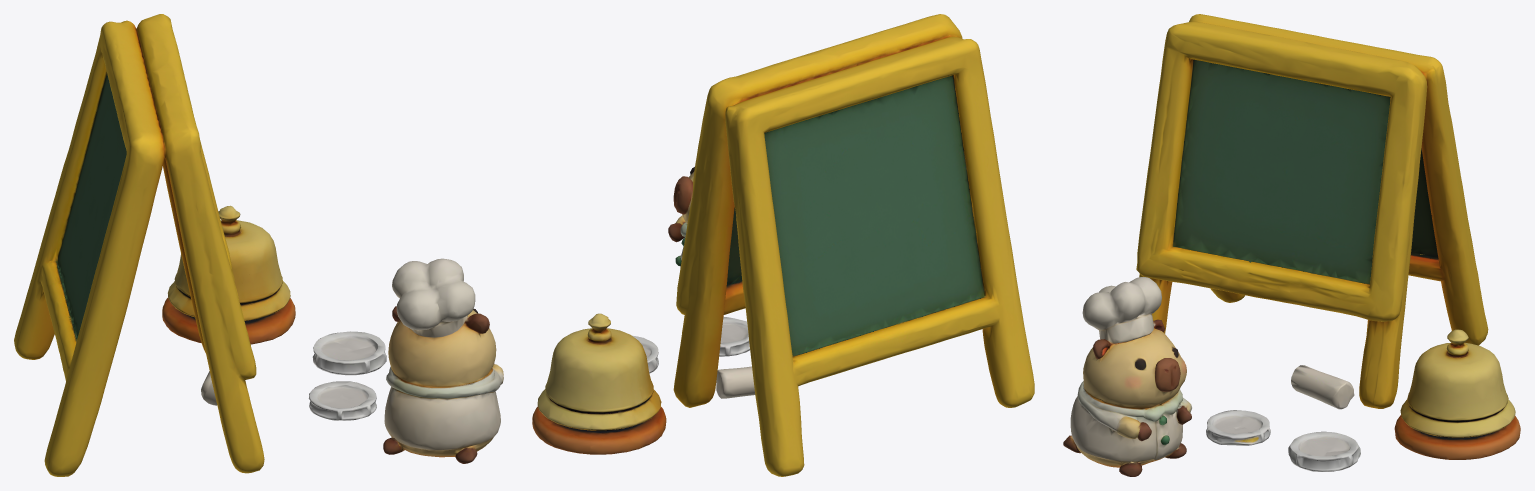
Rendered from discovery-bot.glb.
3 renders of one model, left to right at view 1: azimuth 30°, elevation 25°; view 2: azimuth 150°, elevation 25°; view 3: azimuth 270°, elevation 25°, orthographic. The views are drawn at different scales.
Parts seen in each view (by area): view 1: tripo_node_3c3fa48c-f5a0-4263-a6ff-43eefa286911; view 2: tripo_node_3c3fa48c-f5a0-4263-a6ff-43eefa286911; view 3: tripo_node_3c3fa48c-f5a0-4263-a6ff-43eefa286911.
Boxes of the visible parts, x1,y1,x2,y2 form: tripo_node_3c3fa48c-f5a0-4263-a6ff-43eefa286911: (14, 14, 503, 476); tripo_node_3c3fa48c-f5a0-4263-a6ff-43eefa286911: (532, 14, 1034, 476); tripo_node_3c3fa48c-f5a0-4263-a6ff-43eefa286911: (1063, 14, 1520, 476).
Bounding box in the file's own units: 0.957 × 0.7854 × 1.
Materials: 1 (1 with a texture image).
